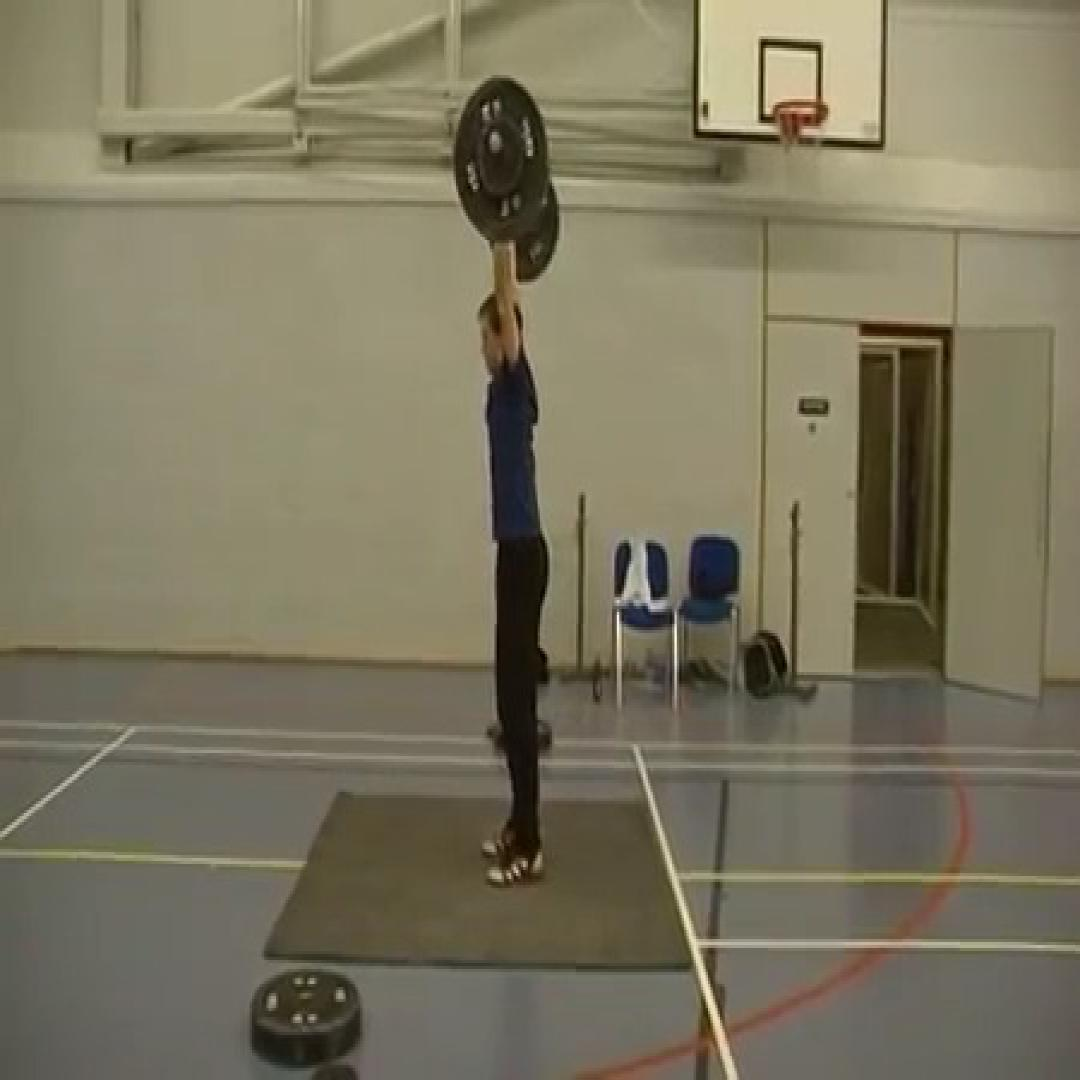Bar: (487, 132, 504, 156)
Barbell: (454, 75, 547, 240)
